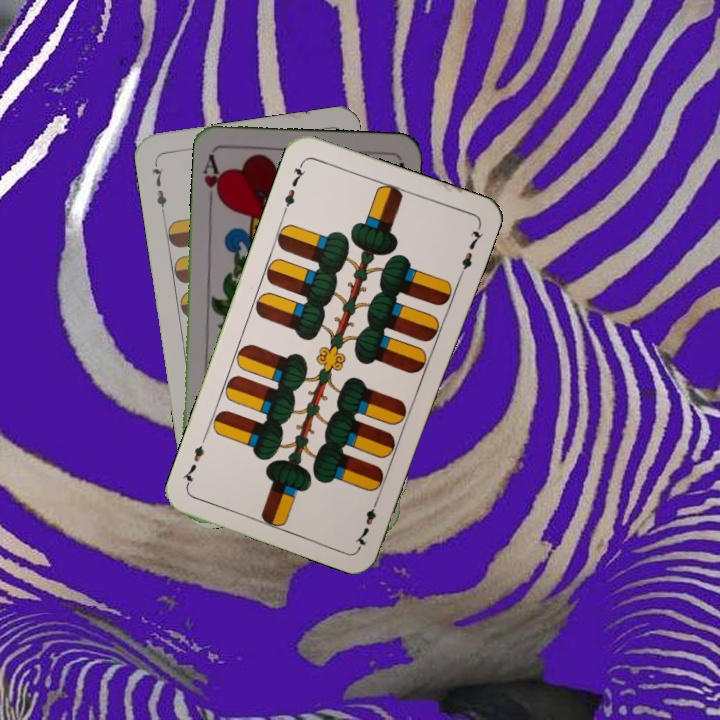E7: (350, 492, 382, 550), (279, 158, 309, 215), (148, 157, 170, 217)
HA: (199, 150, 226, 207)
